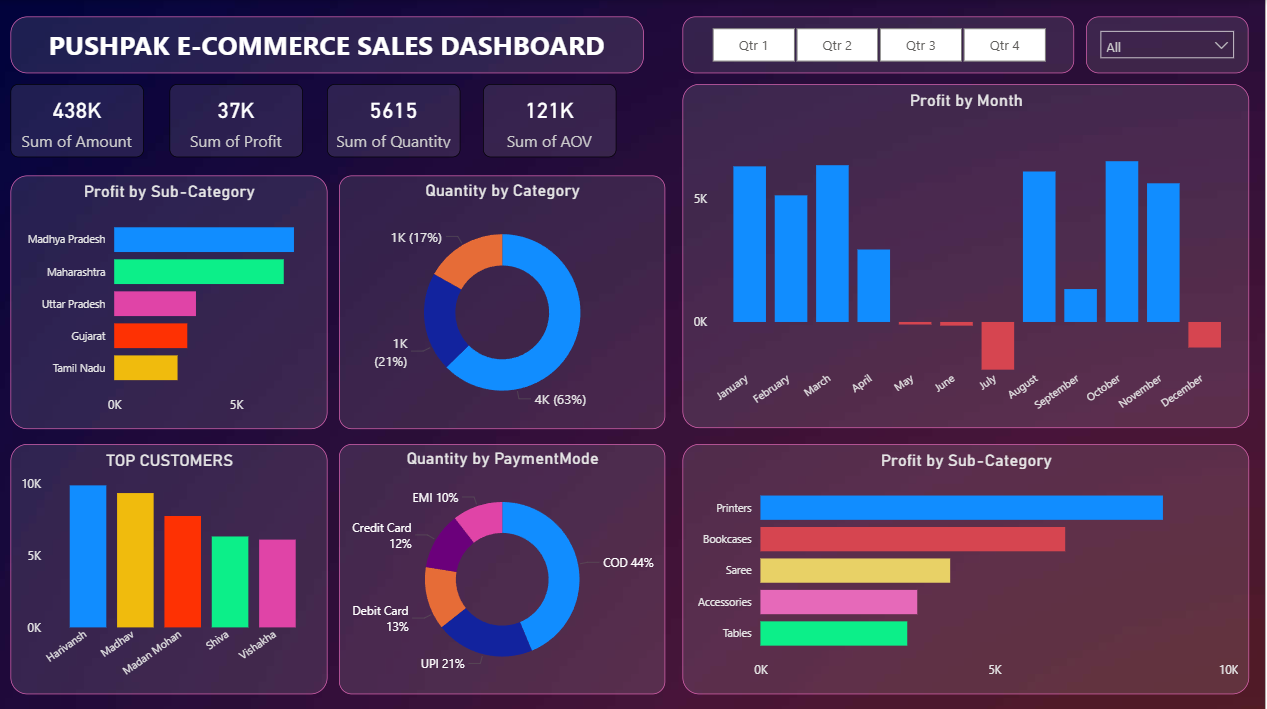

The dashboard page shown, as its layout file describes it:
{"tool":"powerbi","page":{"name":"Page 1","canvas":[1280,720],"ordinal":0},"visuals":[{"type":"columnChart","title":"Profit by Month","fields":{"Category":["Orders.Order Date.Variation.Date Hierarchy.Month"],"Y":["Sum(Details.Profit)"]},"box":[691.8,85.2,572.1,347.5],"z":0},{"type":"textbox","box":[13.1,16.4,639.3,57.4],"z":1000},{"type":"barChart","title":"Profit by Sub-Category","fields":{"Category":["Details.Sub-Category"],"Y":["Sum(Details.Profit)"]},"box":[691.8,447.5,572.1,252.5],"z":2000},{"type":"donutChart","title":"Quantity by Category","fields":{"Category":["Details.Category"],"Y":["Sum(Details.Quantity)"]},"box":[345.9,177,329.5,255.7],"z":3000},{"type":"donutChart","title":"Quantity by PaymentMode","fields":{"Category":["Details.PaymentMode"],"Y":["Sum(Details.Quantity)"]},"box":[345.9,447.5,329.5,252.5],"z":4000},{"type":"barChart","title":"Profit by Sub-Category","fields":{"Category":["Orders.State","Details.Sub-Category"],"Y":["Sum(Details.Profit)"]},"box":[13.1,177,319.7,255.7],"z":5000},{"type":"columnChart","title":"TOP CUSTOMERS","fields":{"Y":["Sum(Details.Amount)"],"Category":["Orders.CustomerName"]},"box":[13.1,447.5,319.7,252.5],"z":6000},{"type":"card","fields":{"Values":["Sum(Details.Amount)"]},"box":[13.1,85.2,134.4,73.8],"z":7000},{"type":"card","fields":{"Values":["Sum(Details.Profit)"]},"box":[173.8,85.2,134.4,73.8],"z":8000},{"type":"card","fields":{"Values":["Sum(Details.Quantity)"]},"box":[332.8,85.2,134.4,73.8],"z":9000},{"type":"card","fields":{"Values":["Sum(Details.AOV)"]},"box":[490.2,85.2,134.4,73.8],"z":10000},{"type":"slicer","title":"SELECT","fields":{"Values":["Orders.Order Date.Variation.Date Hierarchy.Quarter"]},"box":[691.8,16.4,395.1,57.4],"z":11000},{"type":"slicer","title":"SELECT","fields":{"Values":["Orders.State"]},"box":[1100,16.4,163.9,57.4],"z":12000}]}

Visuals, with their boxes in screenshot pixels (x1, y1, x2, y2), scaled from the page's 1280x720 canvas onto the 1267x709 screenshot:
"Profit by Month" columnChart: <box>685,84,1251,426</box>
textbox: <box>13,16,646,73</box>
"Profit by Sub-Category" barChart: <box>685,441,1251,689</box>
"Quantity by Category" donutChart: <box>342,174,669,426</box>
"Quantity by PaymentMode" donutChart: <box>342,441,669,689</box>
"Profit by Sub-Category" barChart: <box>13,174,329,426</box>
"TOP CUSTOMERS" columnChart: <box>13,441,329,689</box>
card - Sum(Details.Amount): <box>13,84,146,157</box>
card - Sum(Details.Profit): <box>172,84,305,157</box>
card - Sum(Details.Quantity): <box>329,84,462,157</box>
card - Sum(Details.AOV): <box>485,84,618,157</box>
"SELECT" slicer: <box>685,16,1076,73</box>
"SELECT" slicer: <box>1089,16,1251,73</box>
